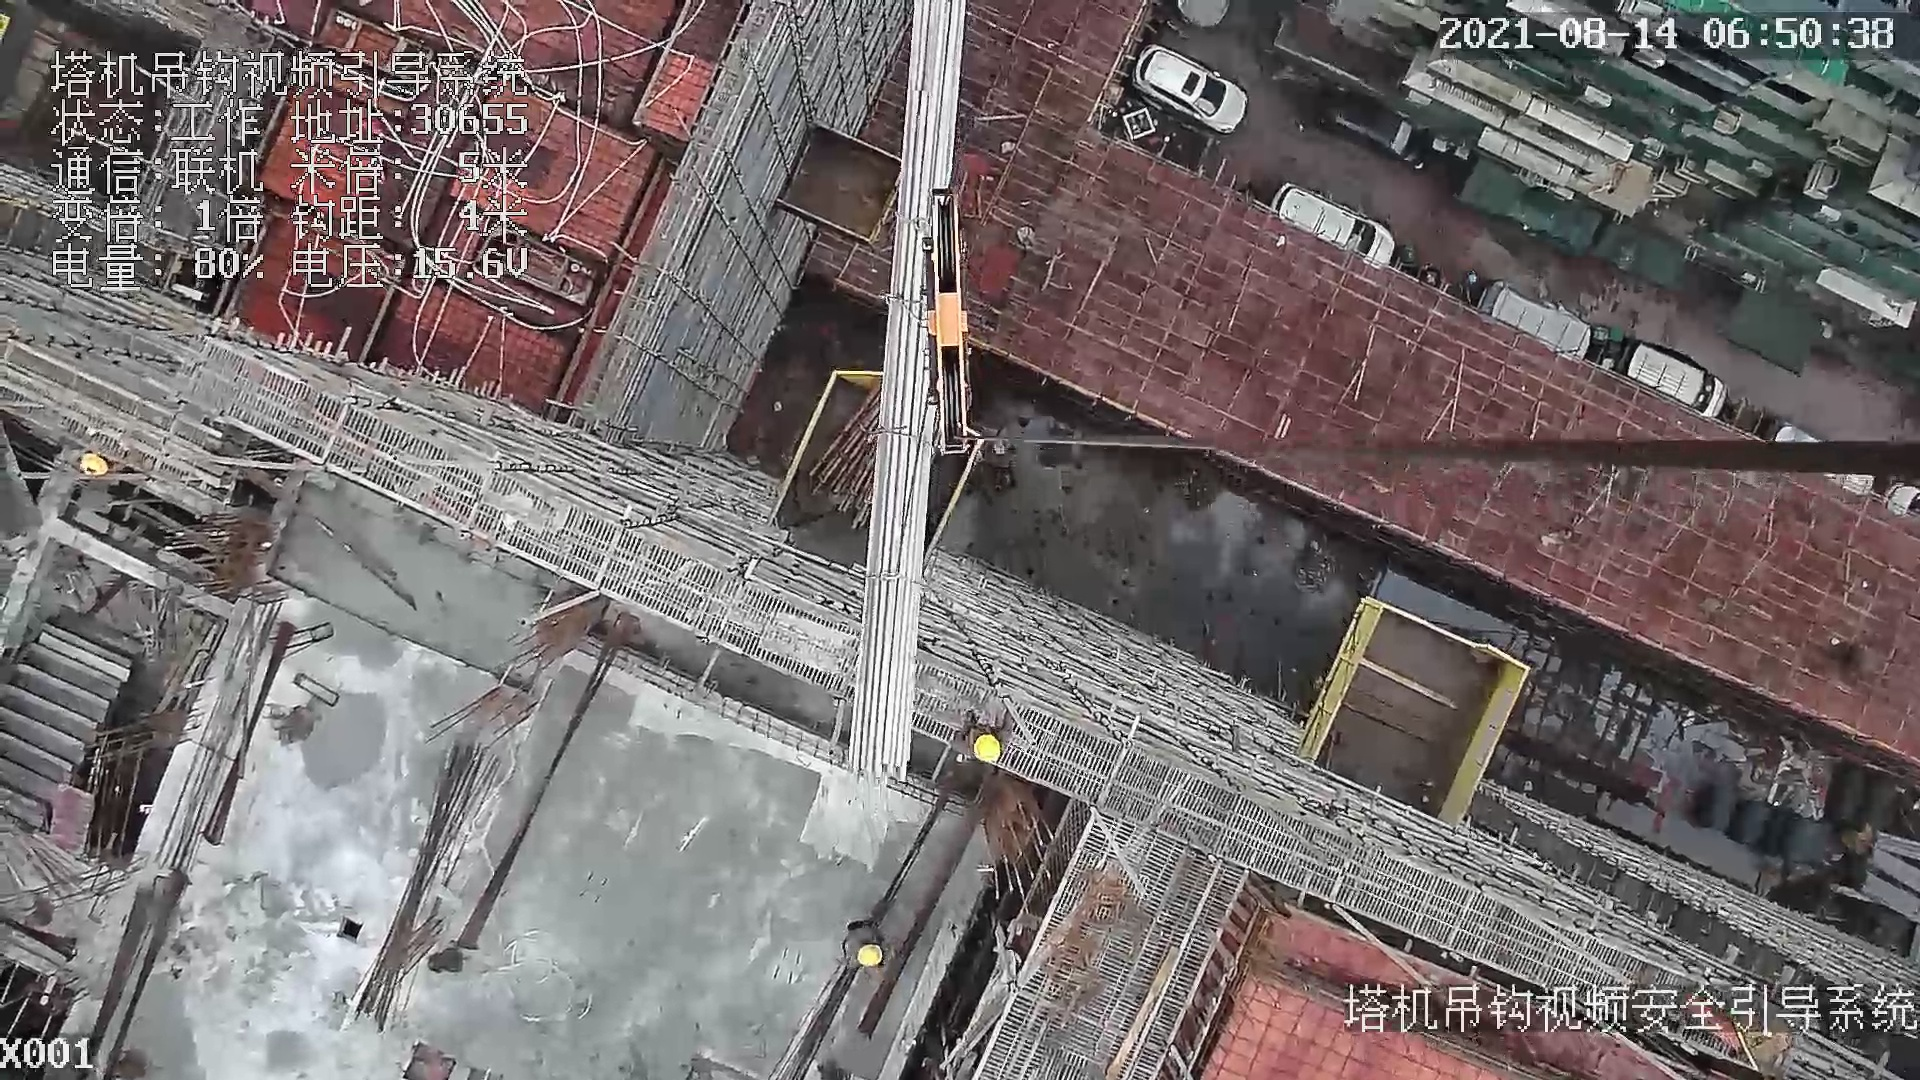helmet: (970, 725, 1007, 767), (75, 448, 115, 485), (853, 942, 888, 971)
person: (956, 706, 1015, 762), (836, 920, 893, 969)
